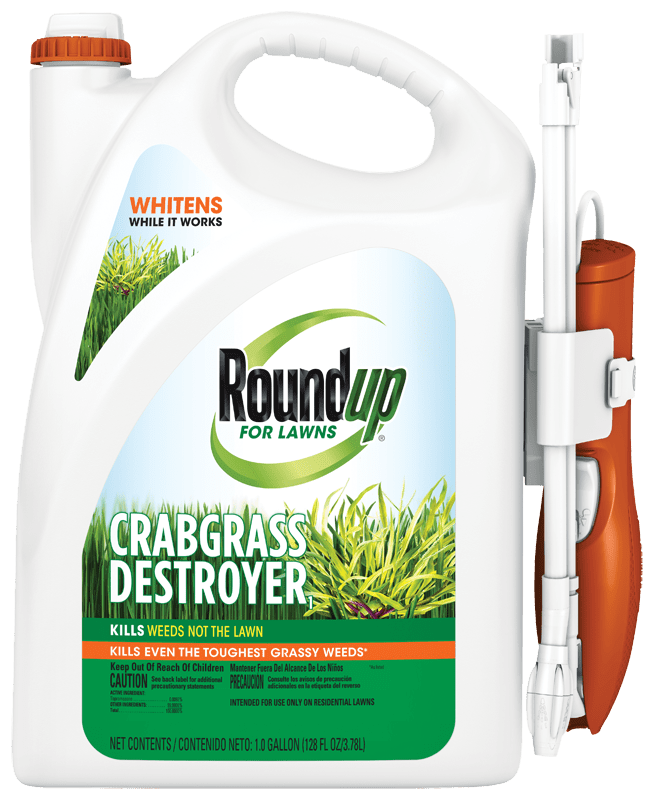crabgrass: (301, 510, 446, 617)
